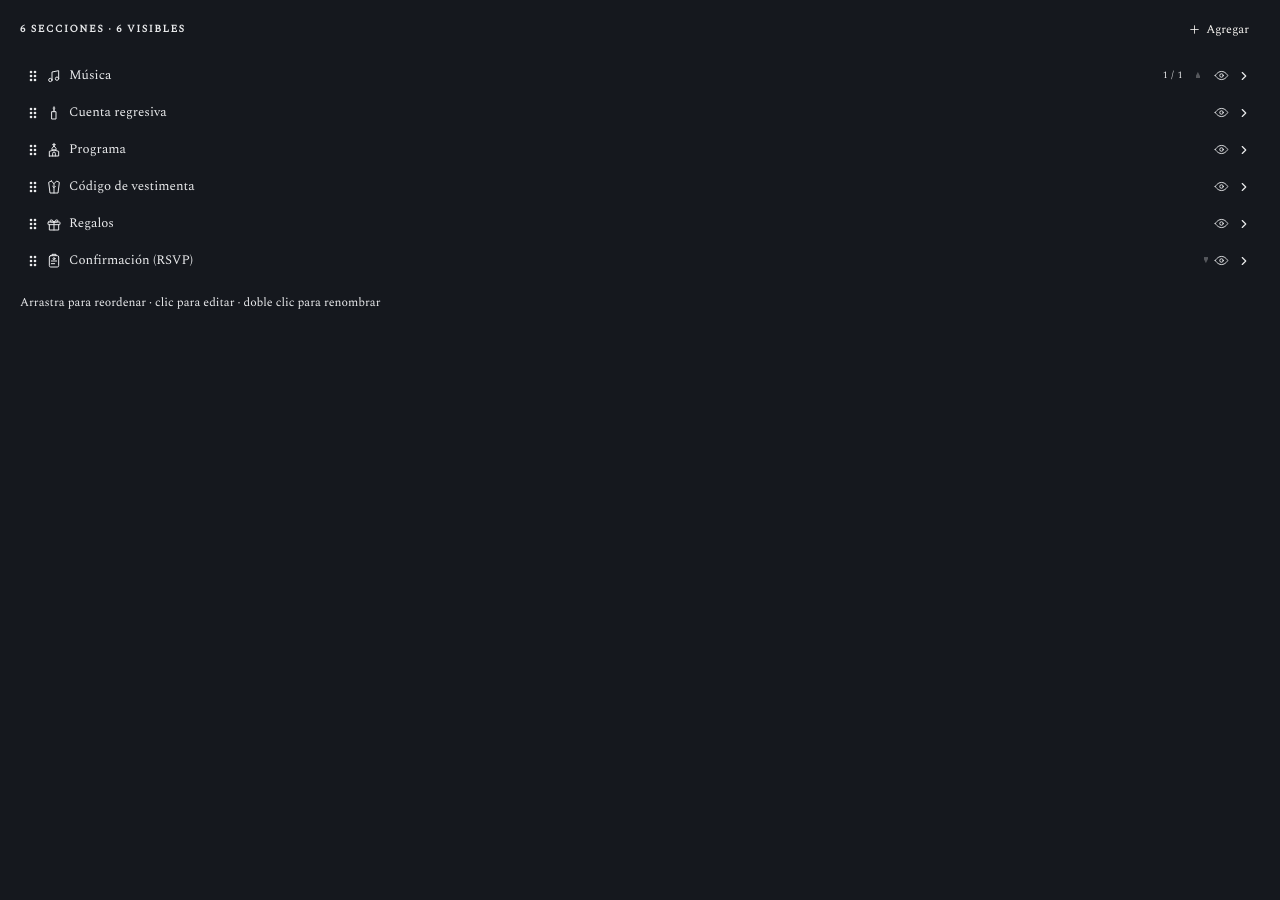
Scenario: SectionsTab — the inspector › deleting › removes the section and returns to the list
Click the button "Programa": (97, 149) [69,139,1189,160]
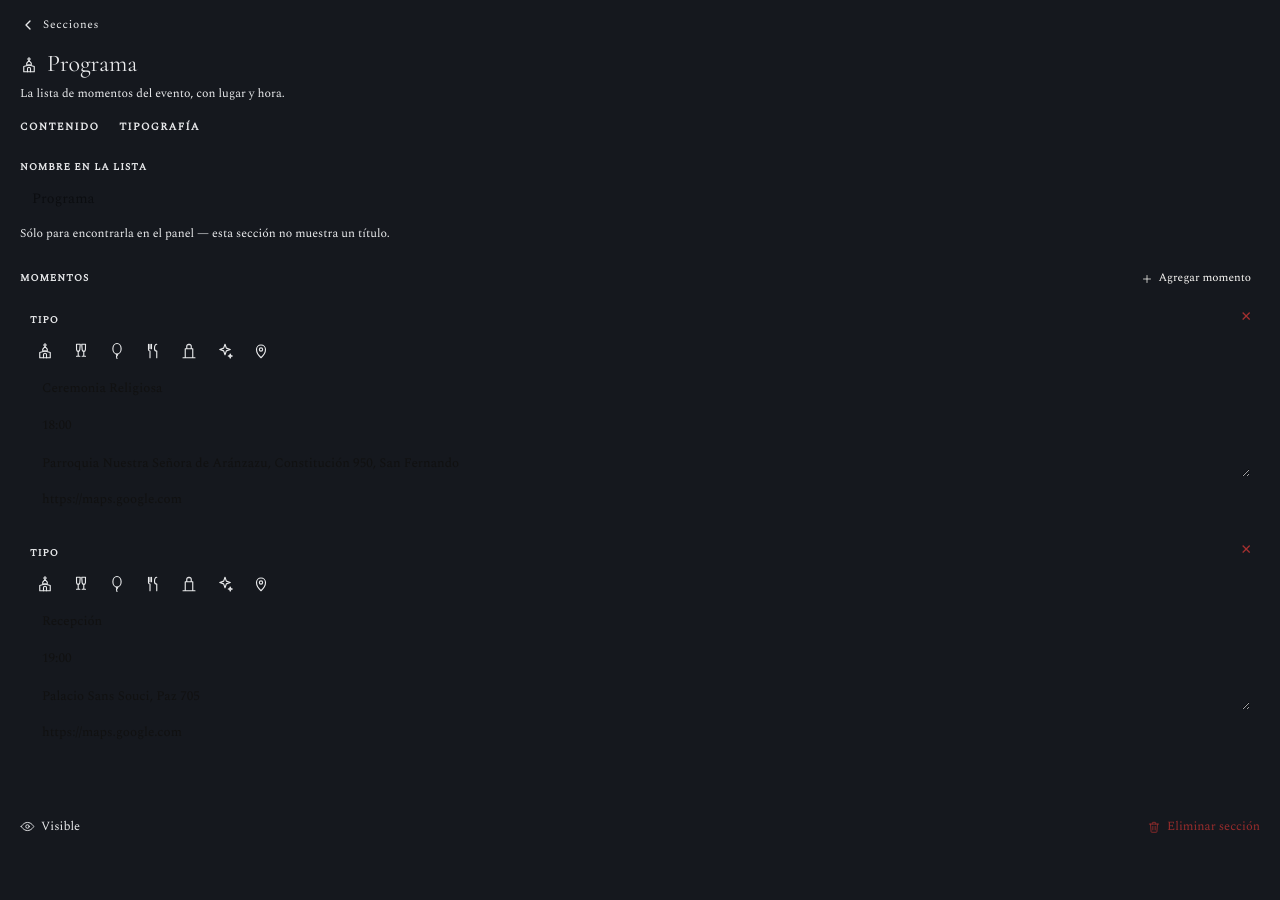
Click the button "Eliminar sección": (1204, 826) [1147,812,1260,840]
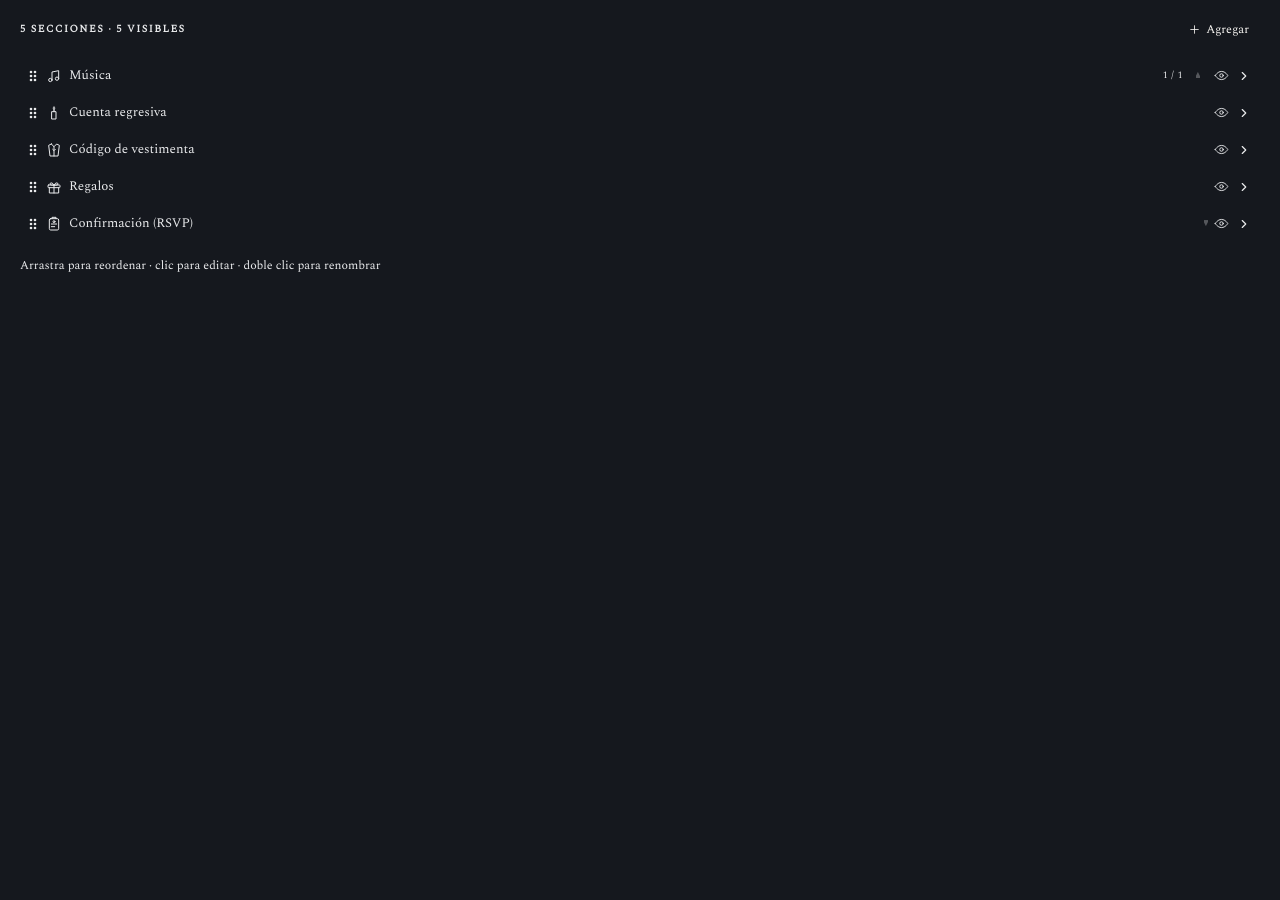
Expected: the list is shown, [20,59,1260,240]
